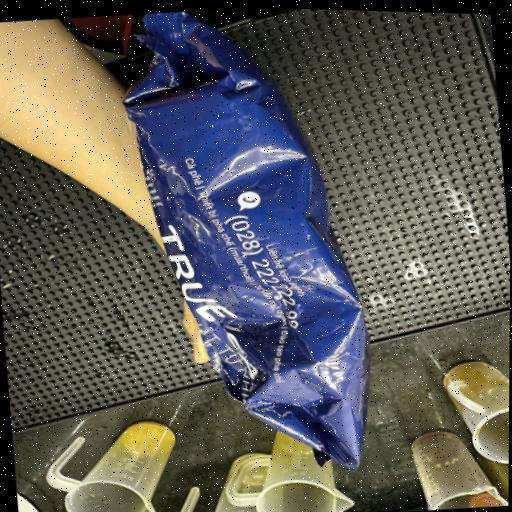cafe_hat: (60, 2, 416, 512)
